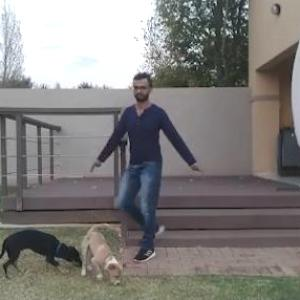land: (98, 85, 206, 262)
